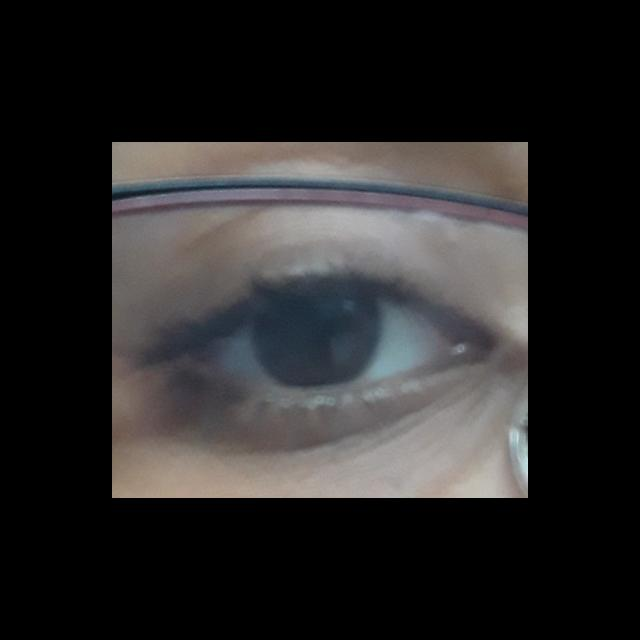eye: (210, 290, 457, 390)
iris: (252, 291, 386, 384)
